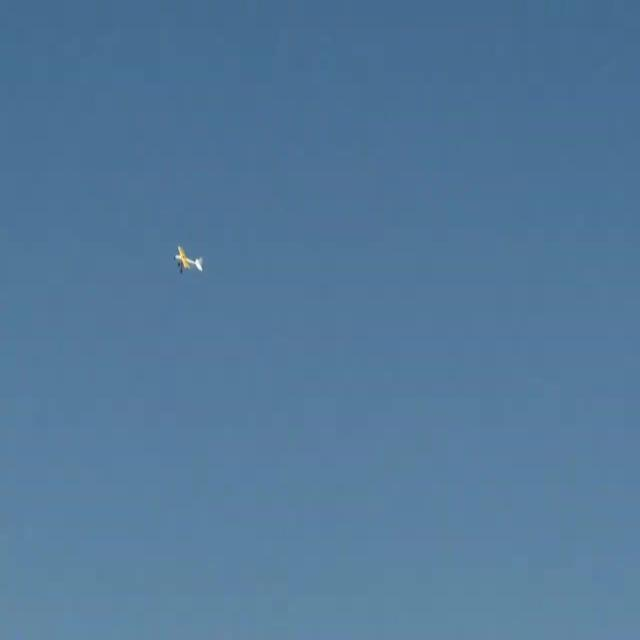iha: (173, 244, 205, 276)
